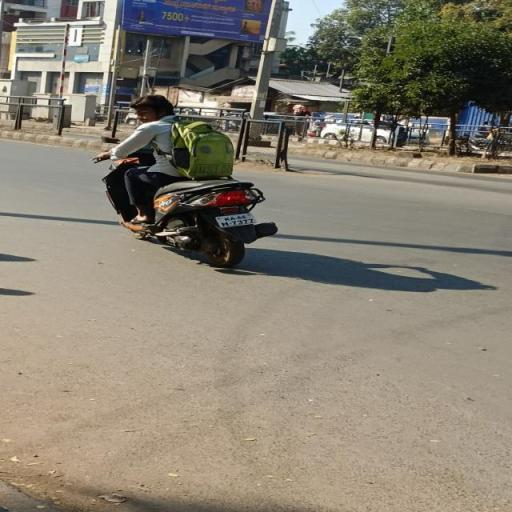bike: (90, 97, 283, 271)
numberplate: (214, 208, 259, 230)
withouthelmet: (132, 96, 170, 122)
